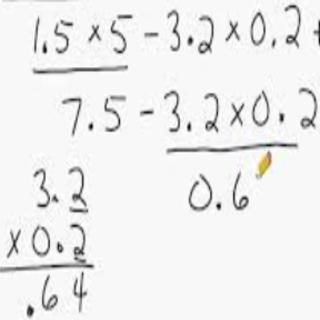.: (25, 304, 36, 318), (85, 120, 96, 133), (56, 239, 65, 254), (50, 191, 60, 204), (277, 110, 286, 124), (185, 119, 193, 134), (214, 199, 223, 212), (40, 40, 48, 53), (186, 34, 194, 47), (270, 36, 278, 49)
0: (186, 171, 214, 213), (250, 90, 271, 128), (31, 224, 51, 258), (249, 11, 267, 46)
1: (31, 15, 41, 54)
2: (297, 86, 320, 131), (66, 164, 89, 208), (282, 3, 303, 49), (202, 92, 223, 134), (196, 14, 216, 55), (69, 222, 88, 257)
3: (162, 89, 182, 134), (31, 166, 51, 208), (165, 7, 182, 52)
4: (71, 270, 90, 315)
5: (102, 93, 129, 134), (109, 13, 134, 55), (53, 18, 75, 55)
6: (230, 169, 251, 211), (40, 274, 60, 312)
7: (60, 96, 82, 139)
